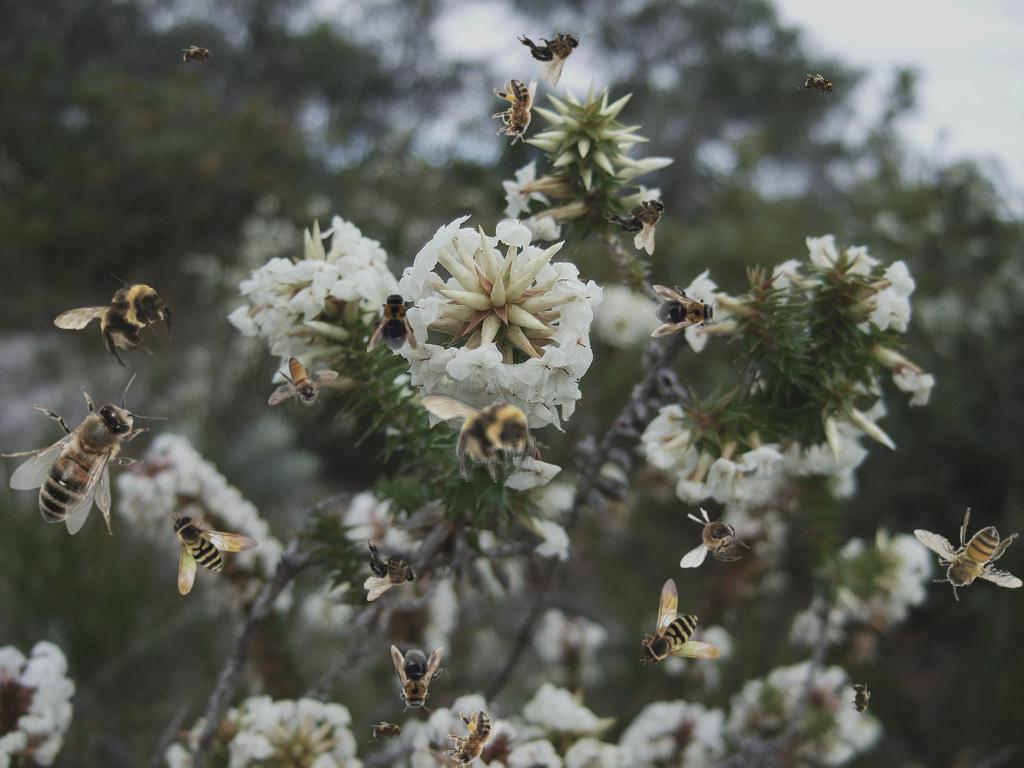Bee: (1, 373, 168, 535), (40, 246, 193, 397), (421, 376, 536, 483), (912, 506, 1024, 602), (639, 578, 721, 666), (171, 513, 259, 595), (600, 177, 683, 259), (513, 8, 594, 90), (433, 701, 505, 768), (680, 507, 750, 568), (268, 356, 339, 406), (391, 645, 443, 713), (367, 288, 419, 356), (651, 285, 719, 337), (364, 539, 417, 601), (492, 79, 537, 145), (797, 68, 843, 104), (368, 721, 408, 743), (178, 45, 218, 67), (849, 679, 871, 719)
